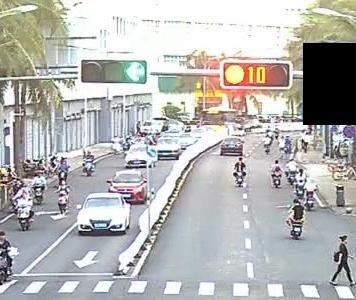greenleft: (124, 60, 146, 82)
red: (223, 63, 246, 87)
redtime: (248, 64, 269, 85)
